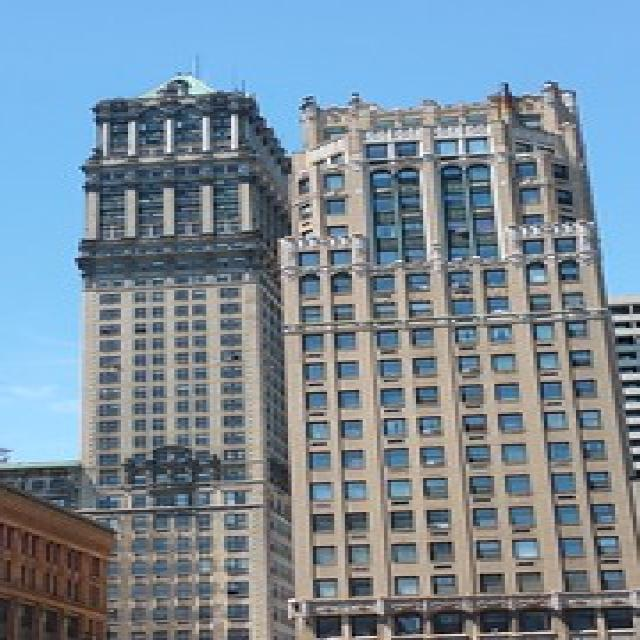building: (281, 82, 640, 640), (62, 70, 308, 640)
